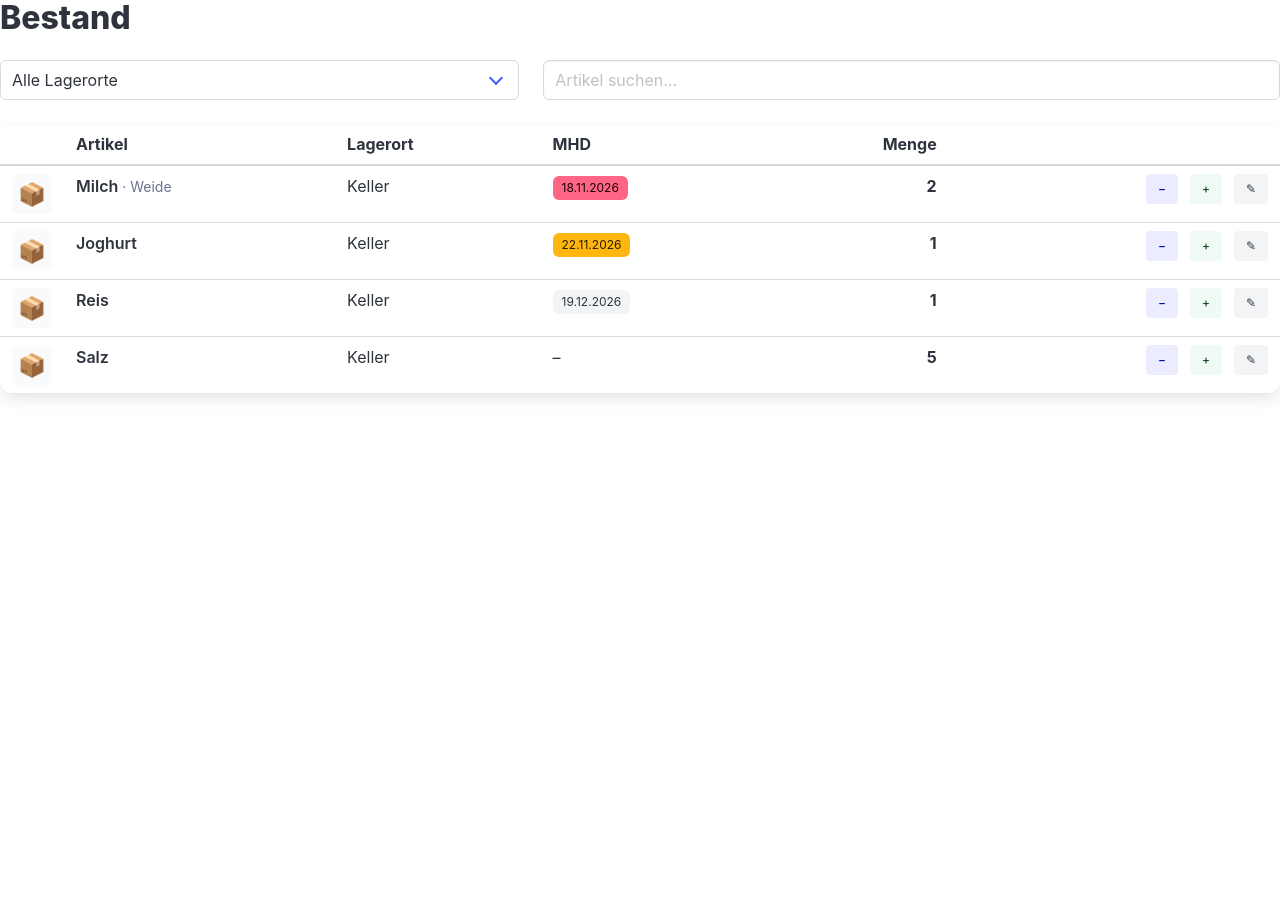
Test: StockPage › edits a batch
Click the button named "Salz bearbeiten": click(1251, 360) [1234,345,1268,375]
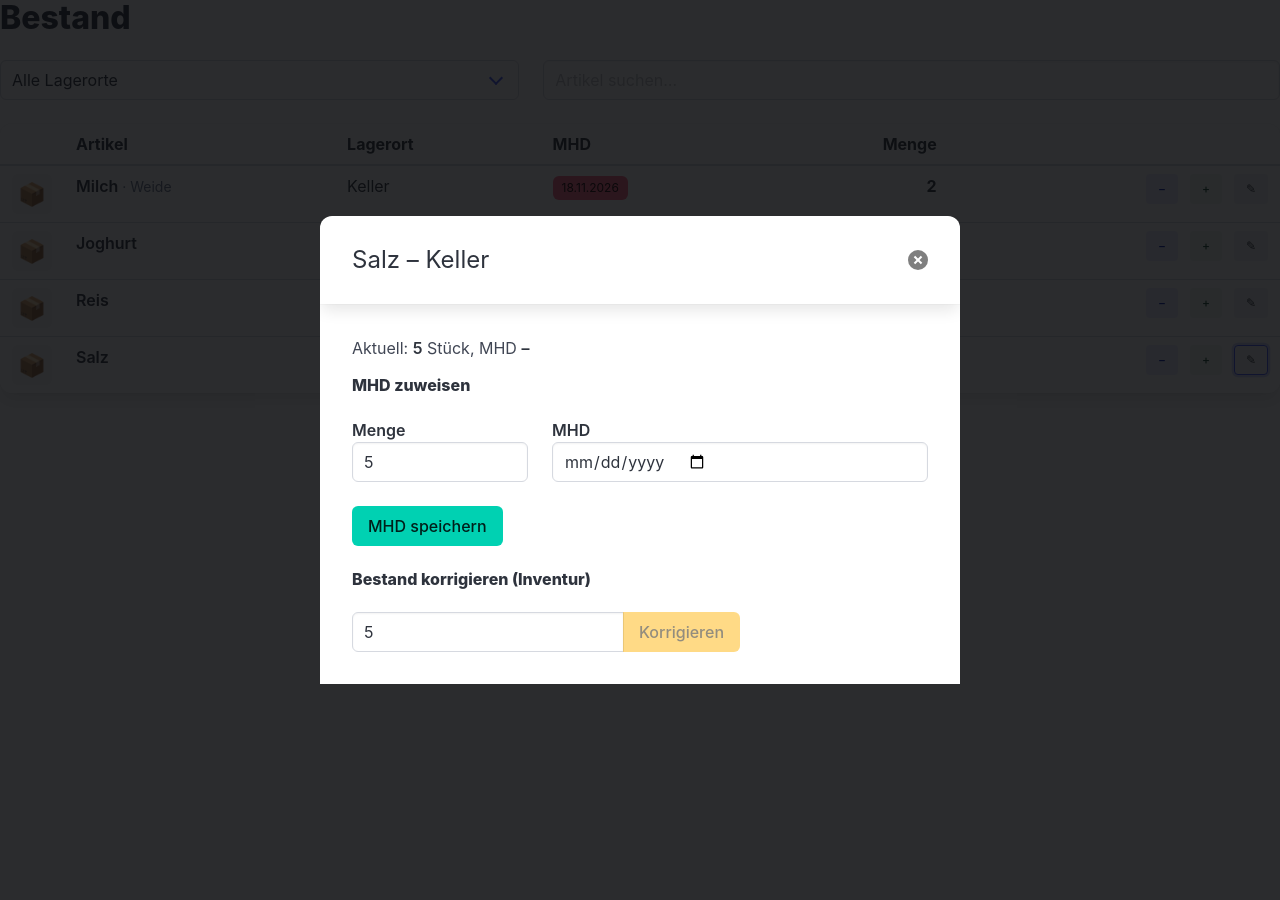
Click the button named "Schließen": click(918, 260) [908,250,928,270]
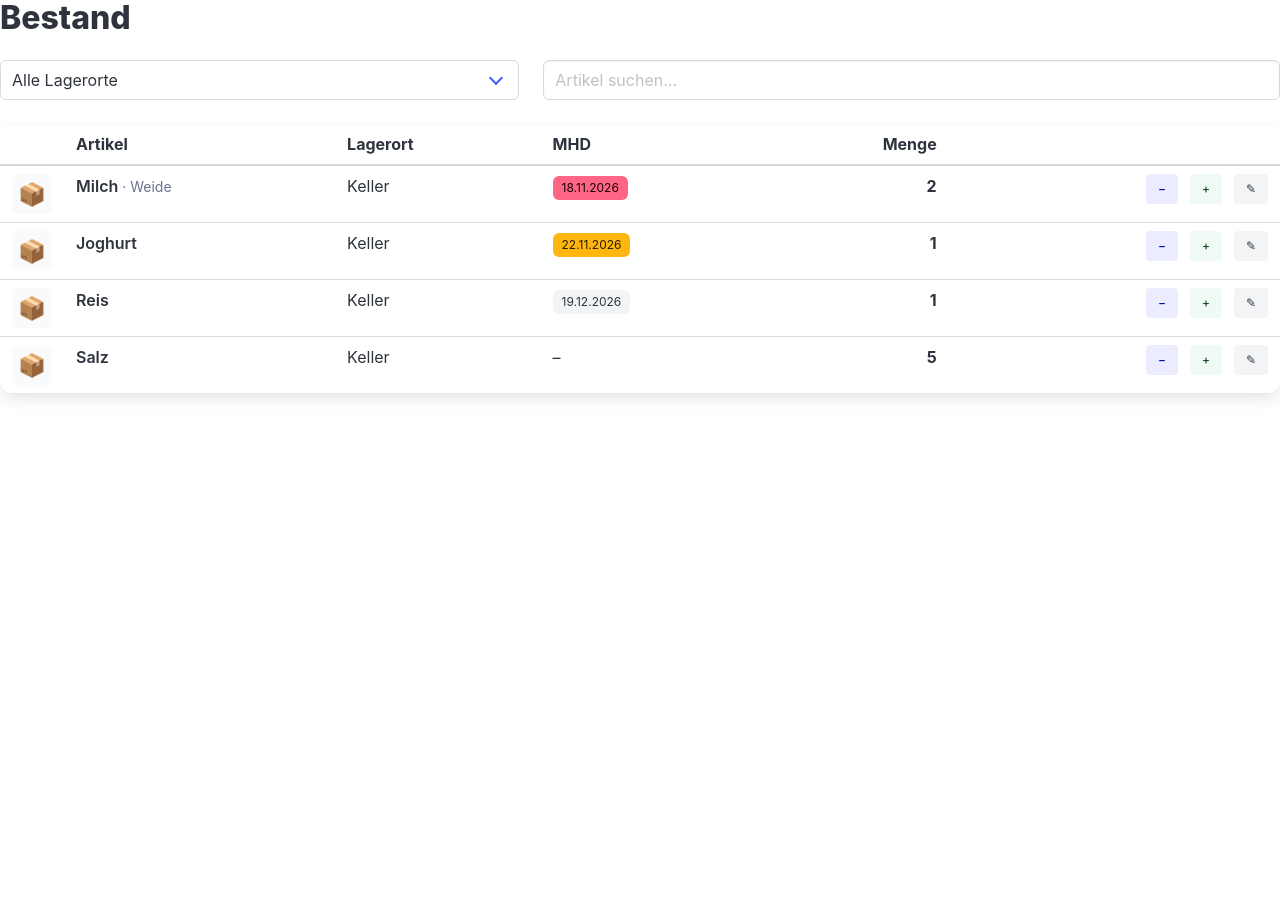
Click the button named "Salz bearbeiten": click(1251, 360) [1234,345,1268,375]
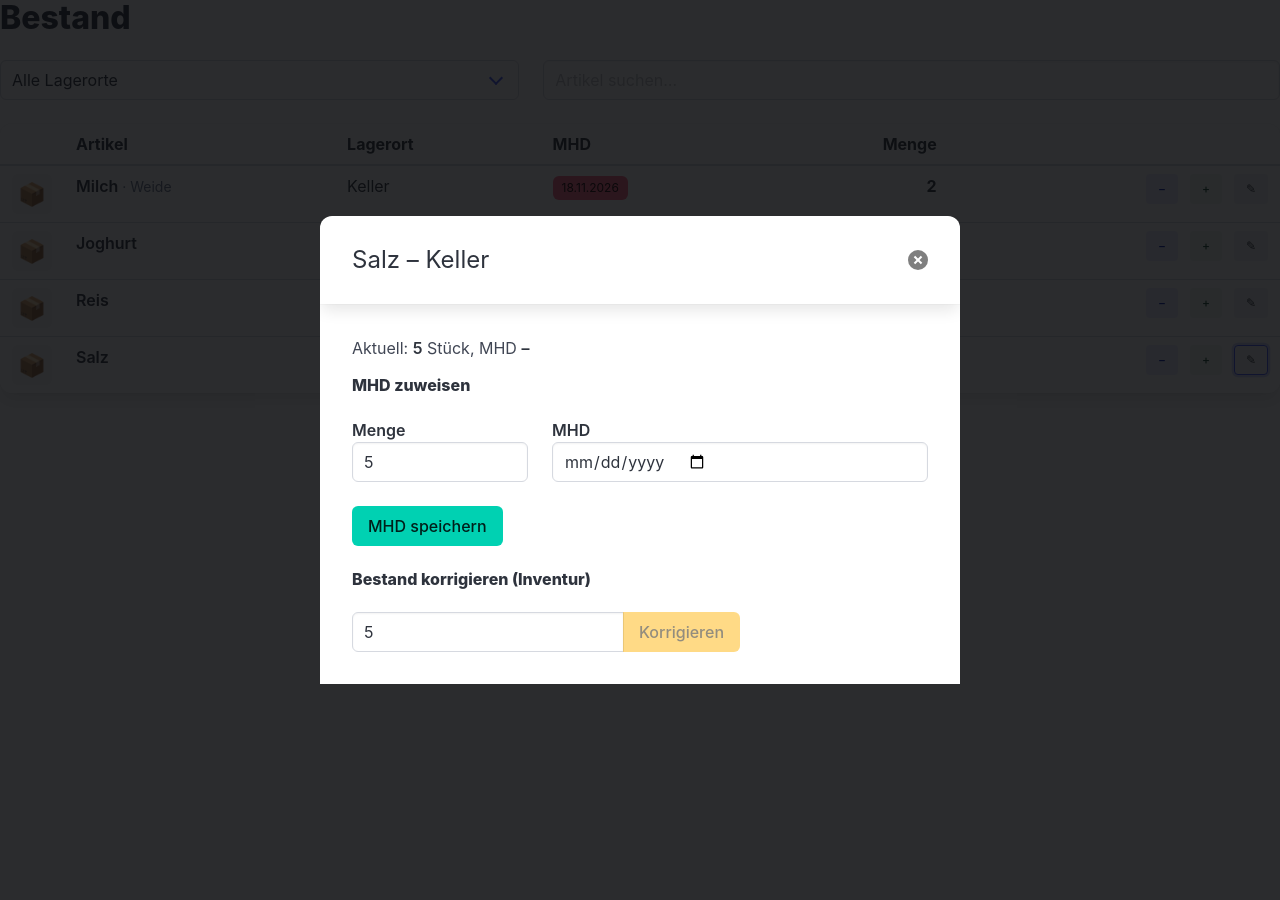
Click the button "MHD speichern": click(427, 526) [352,506,502,546]
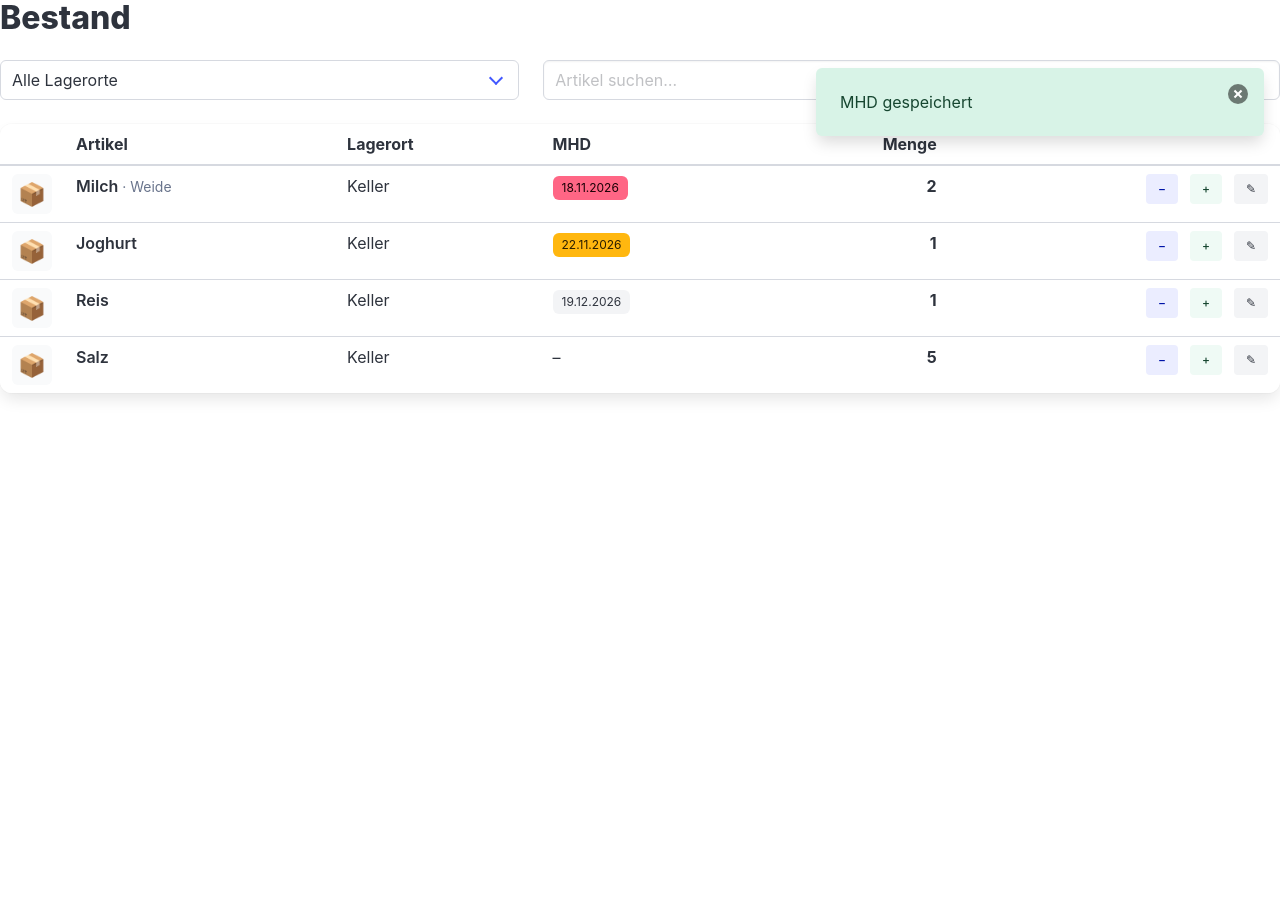
Now the text "MHD gespeichert" is shown, box [816,68,1264,136]
